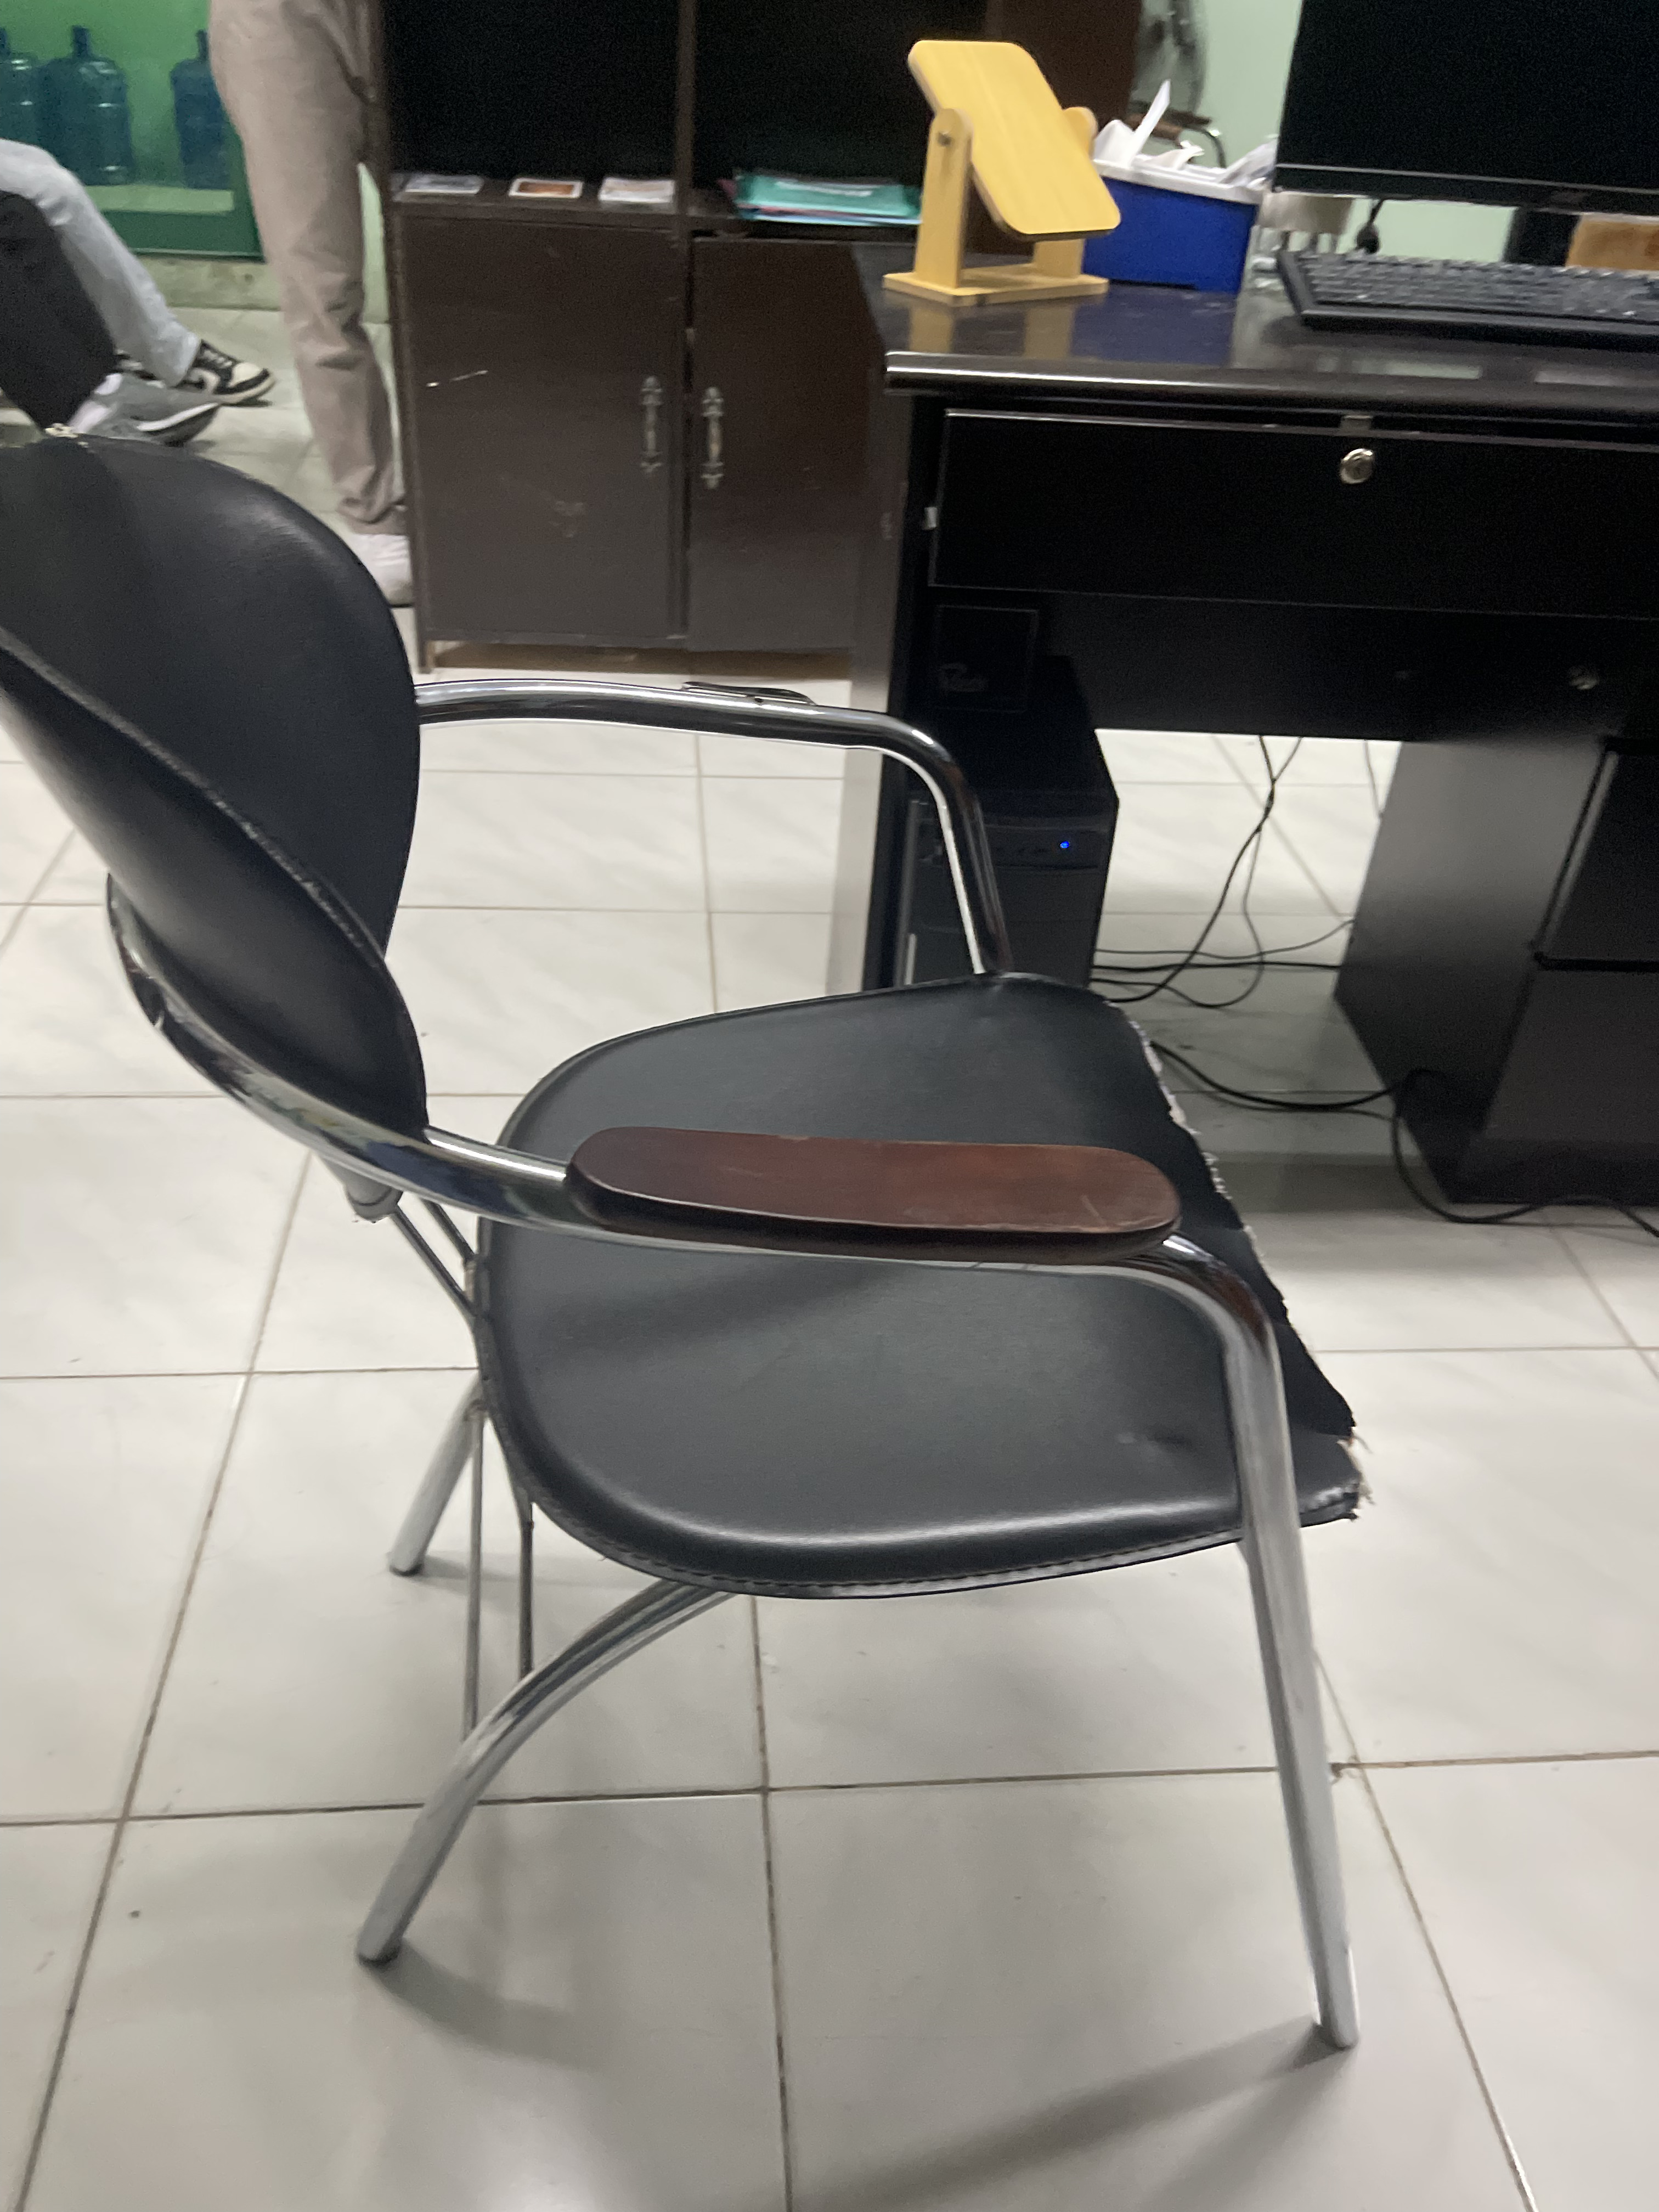chair1: (3, 434, 1389, 2062)
